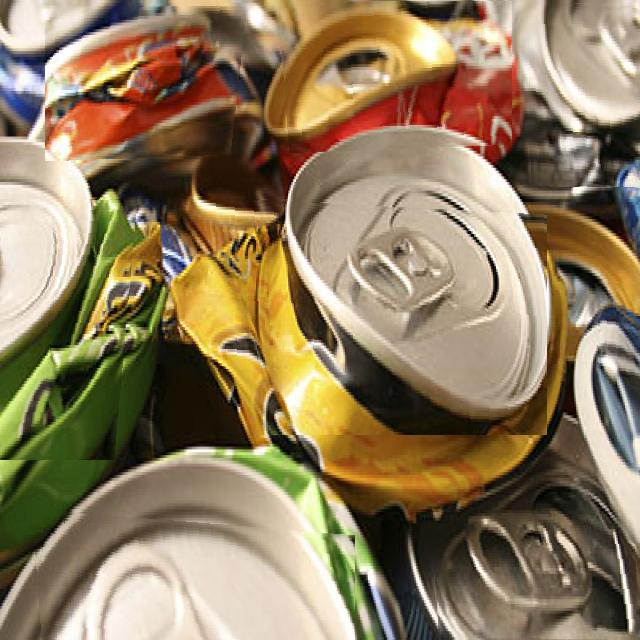Cans: (168, 196, 548, 436), (0, 147, 142, 460), (32, 509, 355, 640), (278, 2, 512, 154), (45, 6, 248, 162), (430, 503, 636, 640), (527, 0, 640, 187), (584, 279, 640, 543)
